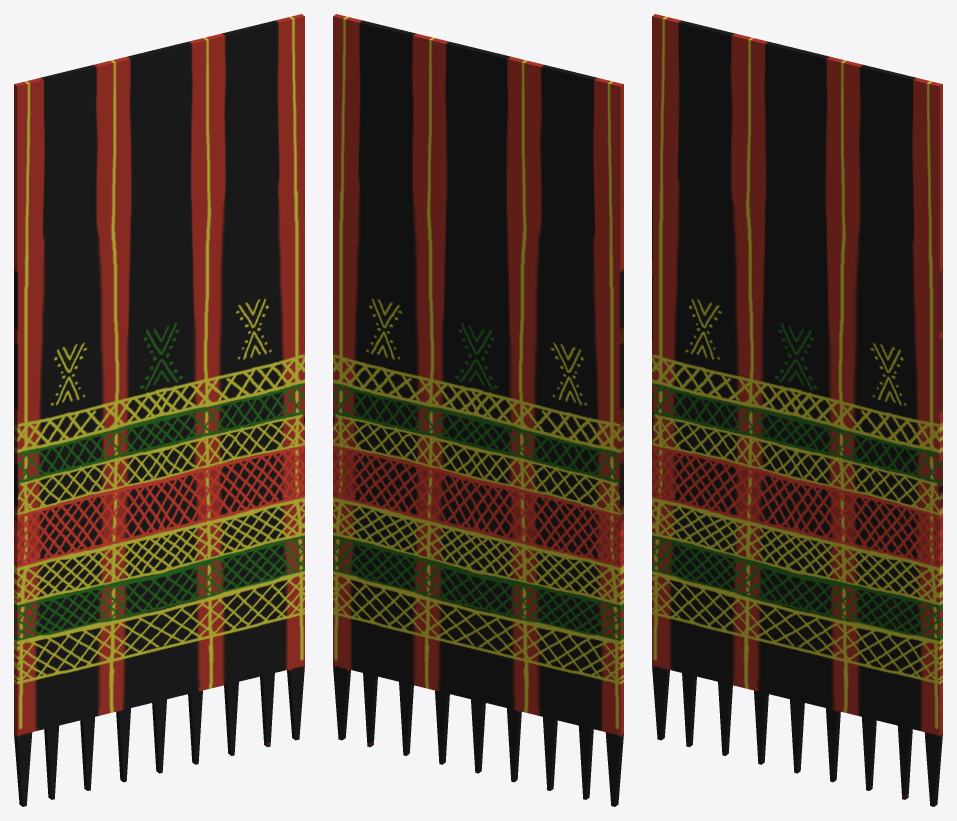
File: NPC MALE 1 BAHAG.fbx
3 renders of one model, left to right at view 1: azimuth 30°, elevation 25°; view 2: azimuth 150°, elevation 25°; view 3: azimuth 330°, elevation 25°, orthographic.
Parts seen in each view (by area): view 1: Plane.013; view 2: Plane.013; view 3: Plane.013.
Boxes of the visible parts, <box> form: Plane.013: <box>14,14,304,806</box>; Plane.013: <box>333,14,623,806</box>; Plane.013: <box>652,14,942,806</box>.
Size of the model in its own units: 50.34 by 121 by 1.
Materials: 1 (1 with a texture image).
